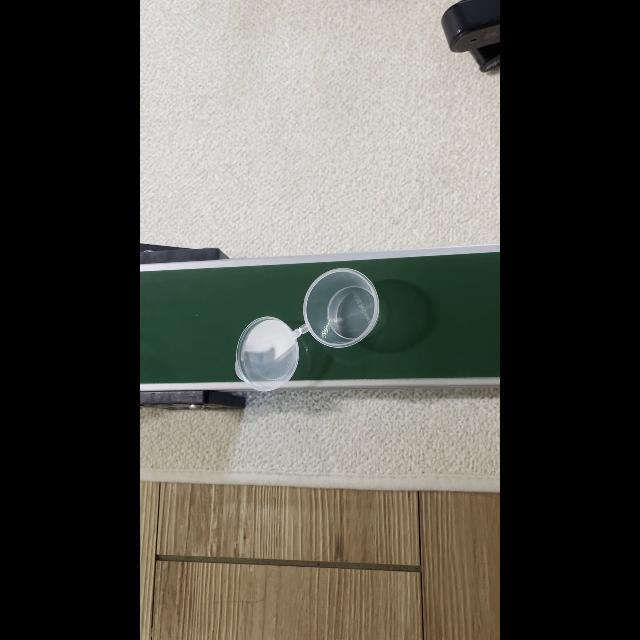clean: (234, 269, 378, 391)
